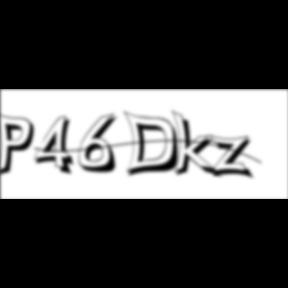4: (34, 115, 80, 179)
6: (78, 112, 124, 176)
D: (124, 110, 186, 180)
P: (0, 110, 40, 180)
k: (172, 108, 224, 181)
z: (210, 134, 258, 182)
